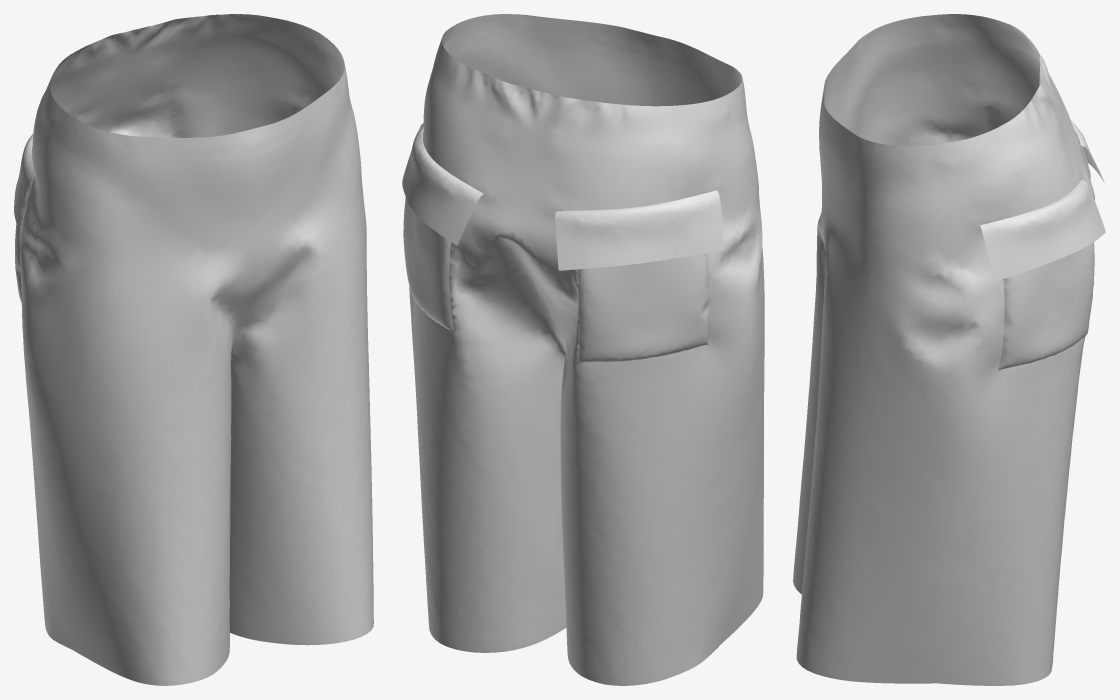
File: Shorts.obj
The picture shows the model from 3 angles, left to right: view 1: azimuth 30°, elevation 25°; view 2: azimuth 150°, elevation 25°; view 3: azimuth 270°, elevation 25°; orthographic projection. The views are drawn at different scales.
Size of the model in its own units: 38.48 by 62.84 by 31.67.
